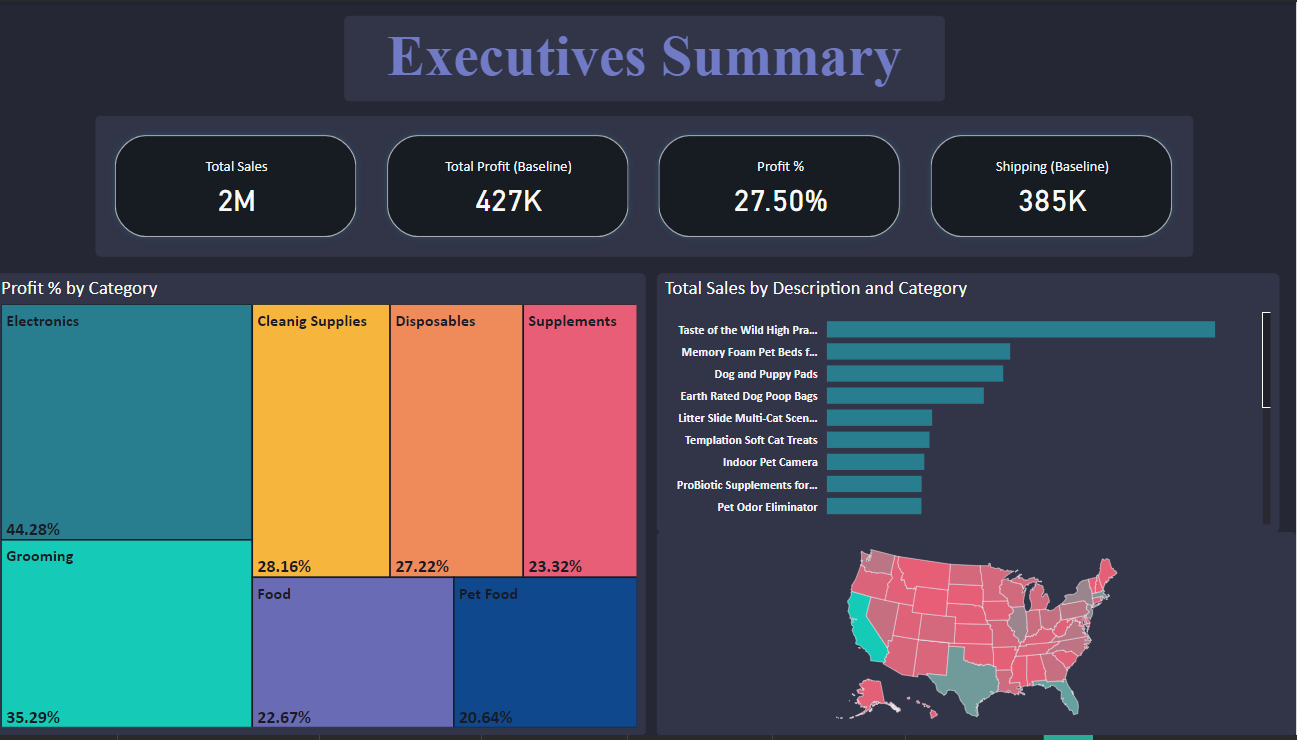

What the dashboard file says about the page in this screenshot:
{"tool":"powerbi","page":{"name":"Executive Summary","canvas":[1280,720],"ordinal":5},"visuals":[{"type":"shapeMap","title":"Total Sales by State","fields":{"Category":["State Mapping.State"],"Value":["Sum(Sales.Sales)"]},"box":[869.2,520.5,411.1,199.8],"z":0},{"type":"cardVisual","fields":{"Data":["Sum(Sales.Sales)","Sum(Sales.Profit (Baseline))","_Measures.Profit %","Sales.Shipping (Baseline)"]},"box":[0,15.3,1280.3,146.4],"z":1000},{"type":"clusteredBarChart","fields":{"Category":["Products.Description"],"Y":["Sum(Sales.Sales)"],"Series":["Products.Category"]},"box":[869.2,161.6,411.1,343.6],"z":2000},{"type":"treemap","fields":{"Group":["Products.Category","Sales.Description"],"Values":["_Measures.Profit %"]},"box":[0,276.2,590.5,444.1],"z":3000}]}

Visuals, with their boxes in screenshot pixels (x1, y1, x2, y2), scaled from the page's 1280x720 canvas onto the 1297x740 screenshot:
"Total Sales by State" shapeMap: 881:535:1296:739
cardVisual - Sum(Sales.Sales) x Sum(Sales.Profit (Baseline)): 0:16:1296:166
clusteredBarChart - Products.Description x Sum(Sales.Sales): 881:166:1296:519
treemap - Products.Category x Sales.Description: 0:284:598:739
